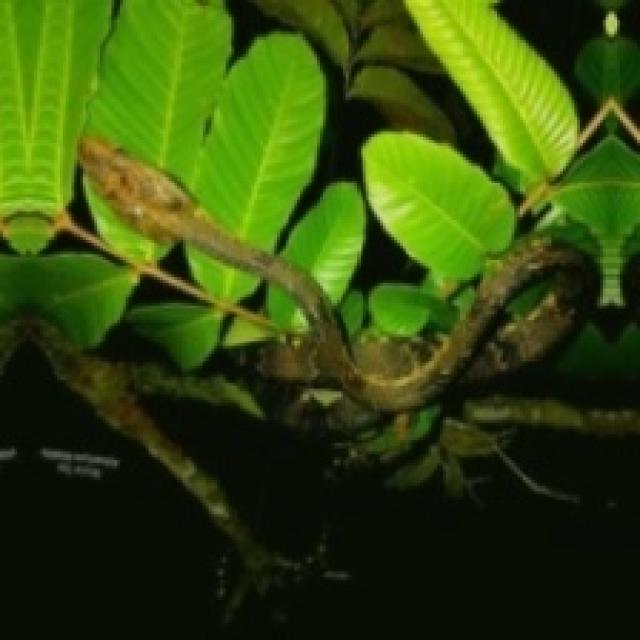dog-toothed cat snake: (80, 137, 577, 409)
